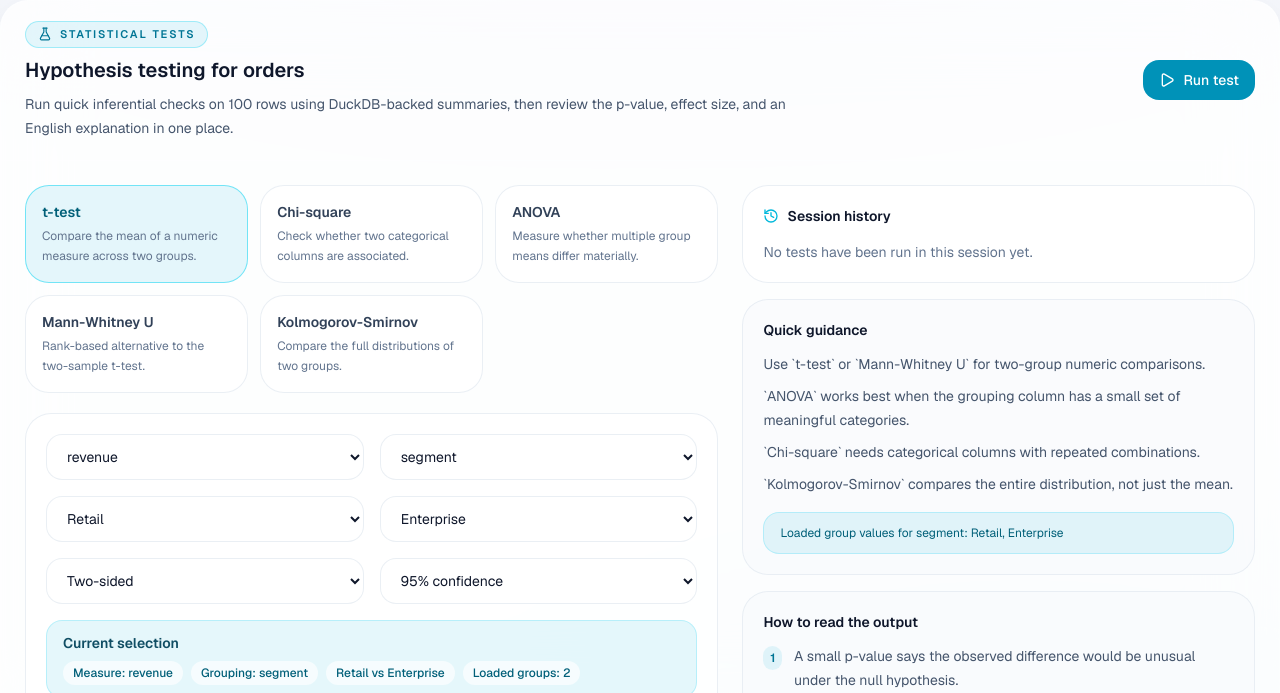
Test case: StatisticalTests › runs a t-test and records it in session history
Check: the text "Loaded group values for segment: Retail, Enterprise" is shown, box [763,512,1234,554]
Check: the text "Retail vs Enterprise" is shown, box [326,660,455,684]
Click the button "Run test": {"x": 1199, "y": 80} [1143,60,1255,100]
(page scrolled)
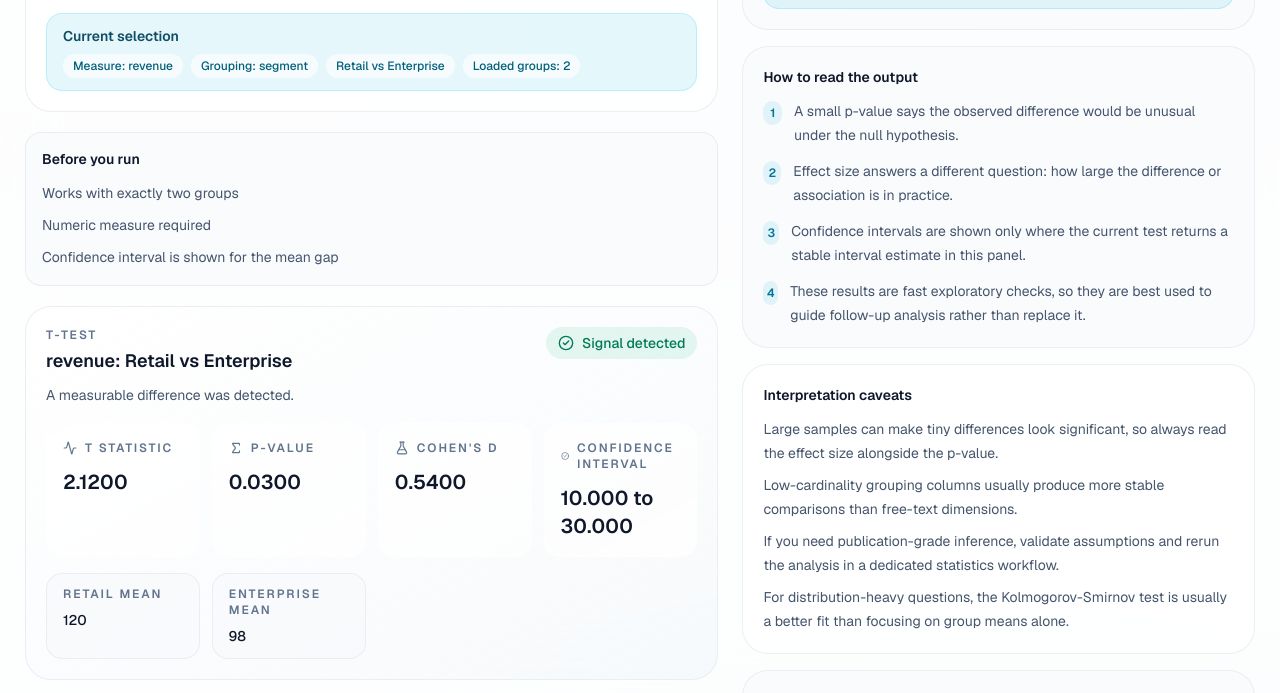
Check: the text "Signal detected" is shown, box [546,326,697,358]
Check: the number of headings "revenue: Retail vs Enterprise" is 2
Check: the heading "revenue: Retail vs Enterprise" is shown, box [46,346,294,374]
